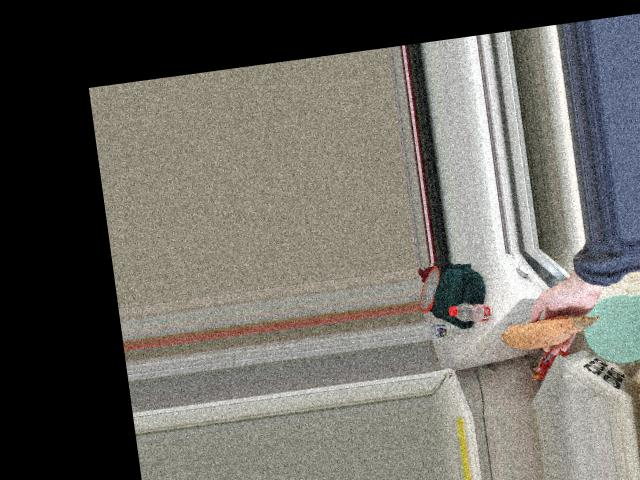sweet_potato: (499, 309, 598, 352)
